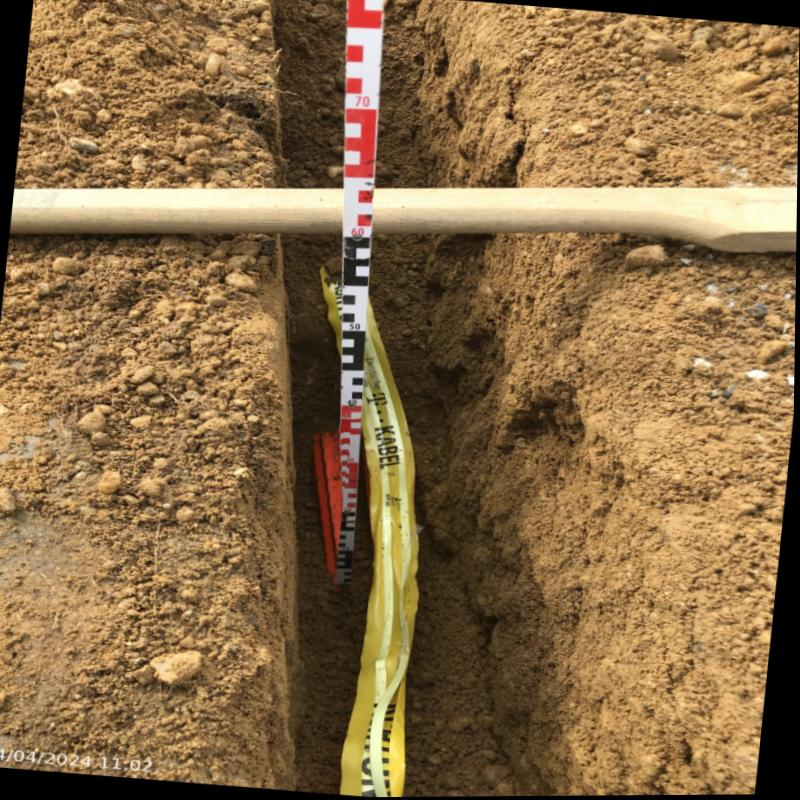Orang-Speednetrohrchen: (315, 426, 346, 579)
